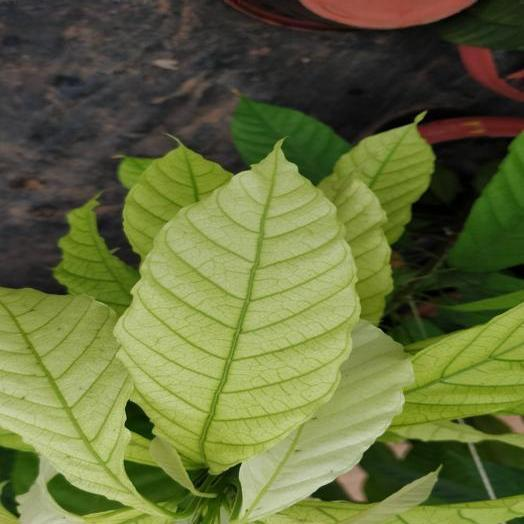Iron: (116, 143, 359, 473)
